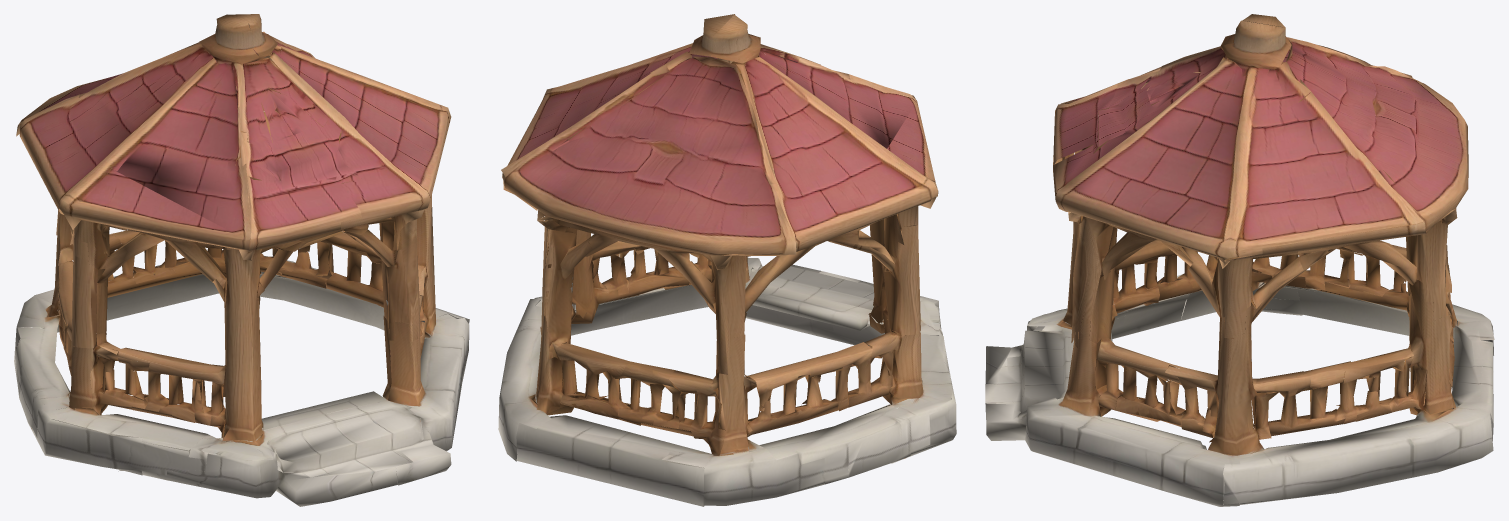
3 views of the same model, side by side, from view 1: azimuth 30°, elevation 25°; view 2: azimuth 150°, elevation 25°; view 3: azimuth 270°, elevation 25° (orthographic).
Parts seen in each view (by area): view 1: quad; view 2: quad; view 3: quad.
Boxes of the visible parts, left/top/right/bottom form: quad: left=14, top=14, right=469, bottom=506; quad: left=498, top=14, right=956, bottom=506; quad: left=985, top=14, right=1494, bottom=506.
Size of the model in its own units: 783 by 666 by 800.
1 material, 1 textured.
